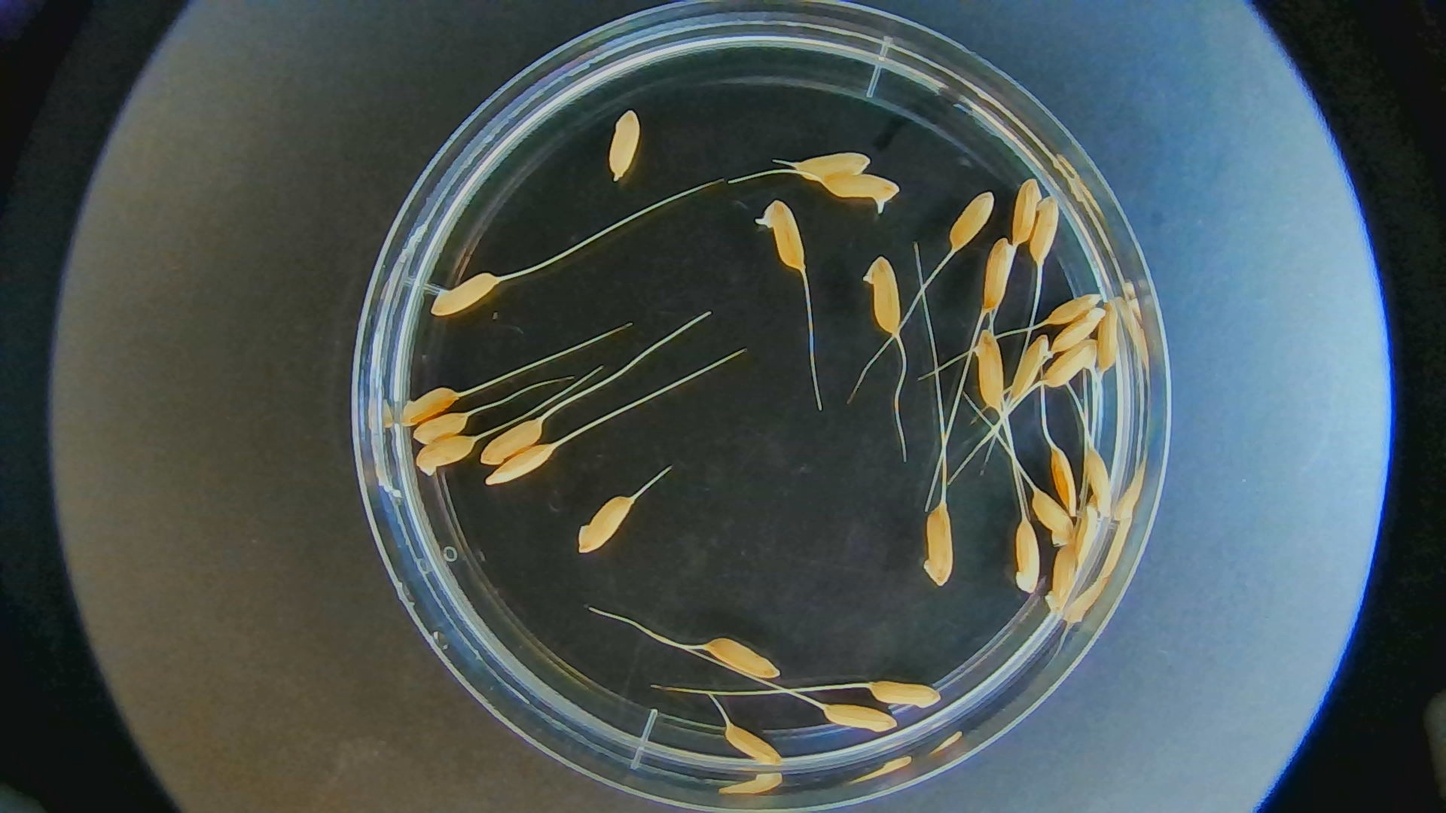no: (575, 493, 635, 556), (484, 440, 557, 486), (480, 419, 544, 470), (865, 254, 905, 335), (711, 637, 786, 680), (431, 273, 501, 319), (723, 720, 784, 772), (409, 410, 474, 458), (919, 502, 956, 586), (1008, 333, 1050, 406), (1030, 483, 1078, 546), (1045, 307, 1108, 355), (413, 435, 480, 480), (948, 190, 998, 250), (606, 106, 643, 184), (395, 386, 460, 428), (975, 325, 1007, 410), (1080, 443, 1116, 518), (822, 700, 899, 735), (796, 149, 870, 184), (1048, 438, 1080, 515), (1042, 289, 1103, 329), (1047, 542, 1079, 617), (1012, 516, 1041, 598), (1029, 188, 1060, 263), (983, 236, 1011, 313), (871, 676, 940, 707), (1008, 179, 1039, 248), (1097, 294, 1123, 372), (1074, 486, 1099, 567)
yes: (755, 197, 808, 274), (822, 171, 902, 209), (1045, 338, 1101, 388)
